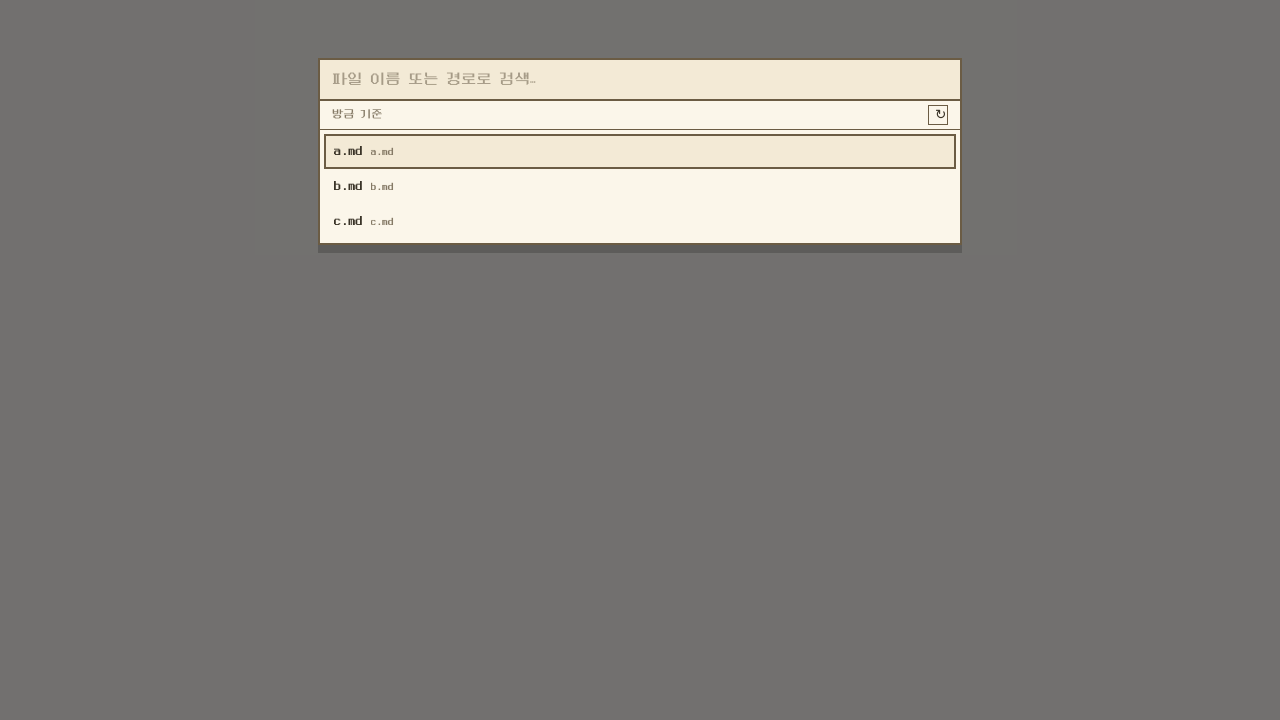
Test: MarkdownPalette › 쿼리로 퍼지 필터한다
This screenshot has width=1280, height=720.
In the field: (640, 80) [320,60,960,101], type "b"
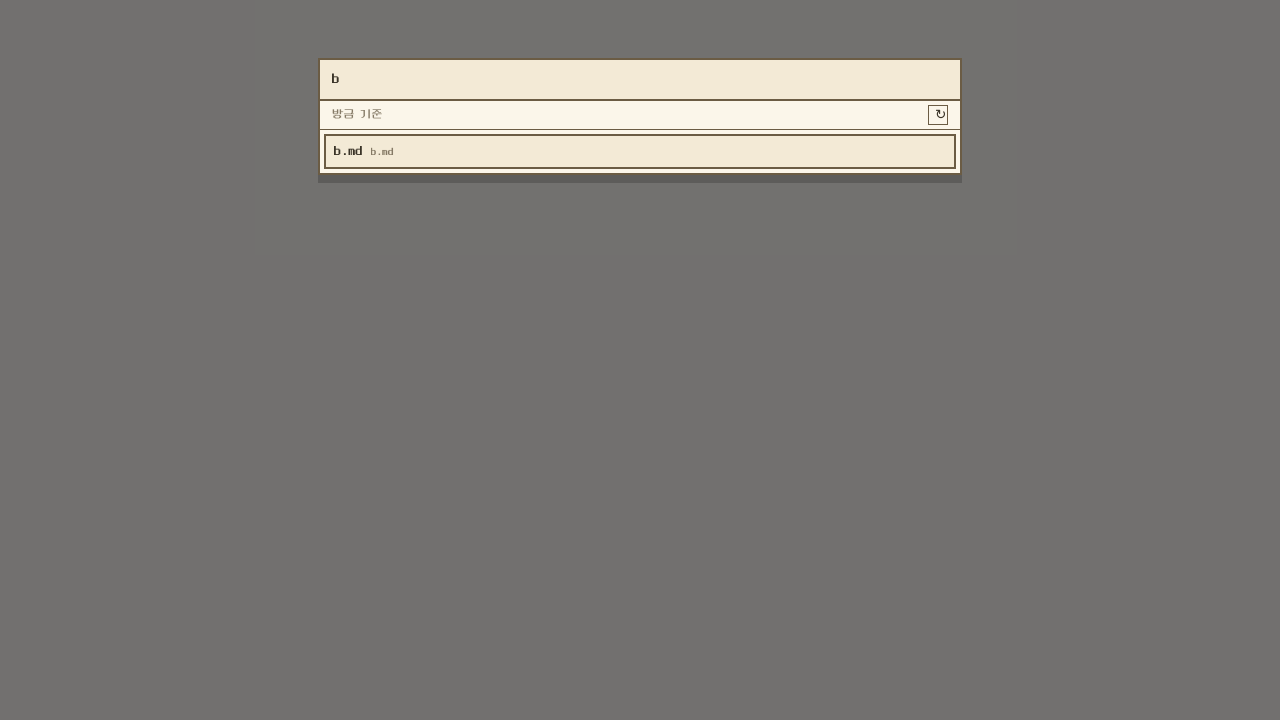
expect the option shows "b.md": met, box [324,134,956,169]
expect the number of options is 1: met, box [324,134,956,169]
